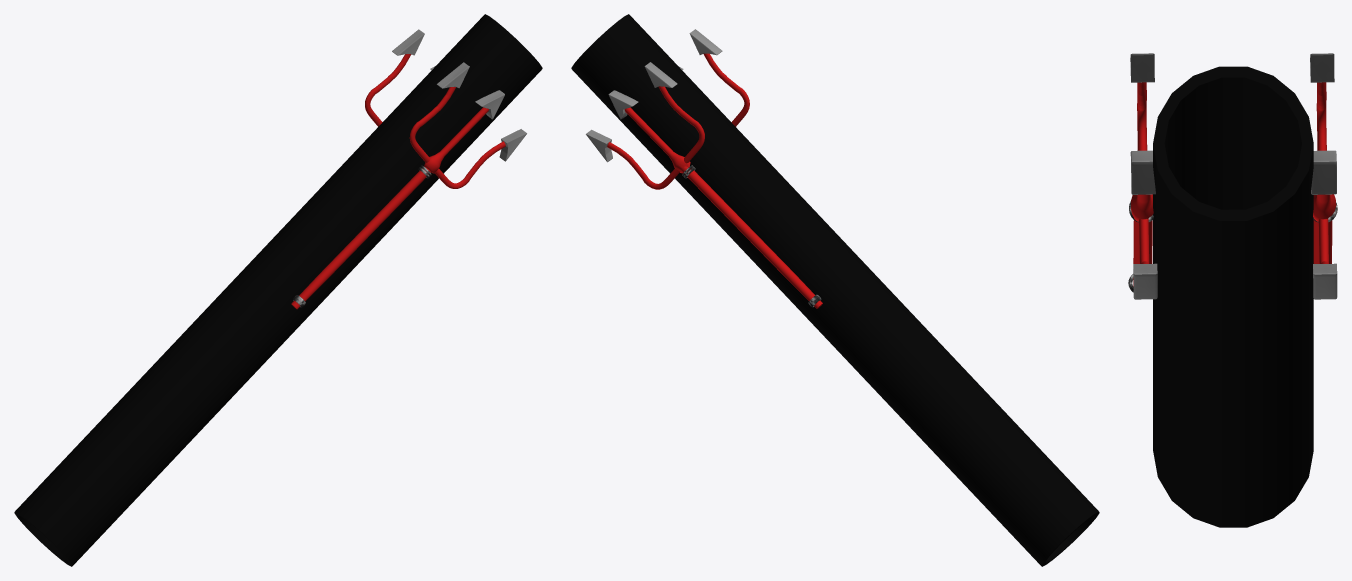
File: toboggan2.FBX
The picture shows the model from 3 angles, left to right: view 1: azimuth 30°, elevation 25°; view 2: azimuth 150°, elevation 25°; view 3: azimuth 270°, elevation 25°; orthographic projection. The views are drawn at different scales.
Parts seen in each view (by area): view 1: Tube001, Cylindre007, Cylindre005; view 2: Tube001, Cylindre001, Cylindre004; view 3: Tube001, Prisme003, Prisme005, Prisme004, Prisme002, Prisme001, Prisme006, Cylindre002, Cylindre008, Cylindre004, Cylindre005, Cylindre007 (+3 smaller).
Boxes of the visible parts, x1,y1,x2,y2 form: Tube001: [14, 14, 542, 566]; Cylindre007: [291, 167, 431, 309]; Cylindre005: [424, 107, 488, 173]; Tube001: [571, 14, 1099, 566]; Cylindre001: [681, 166, 822, 308]; Cylindre004: [624, 107, 690, 173]; Tube001: [1153, 66, 1313, 527]; Prisme003: [1311, 150, 1336, 194]; Prisme005: [1130, 150, 1155, 194]; Prisme004: [1133, 263, 1157, 299]; Prisme002: [1313, 263, 1337, 299]; Prisme001: [1310, 53, 1334, 82]; Prisme006: [1130, 53, 1154, 82]; Cylindre002: [1316, 82, 1326, 150]; Cylindre008: [1137, 82, 1147, 150]; Cylindre004: [1313, 194, 1336, 221]; Cylindre005: [1131, 194, 1153, 221]; Cylindre007: [1133, 220, 1152, 286].
Size of the model in its own units: 15341 by 12574 by 2715.
3 materials, 1 textured.
